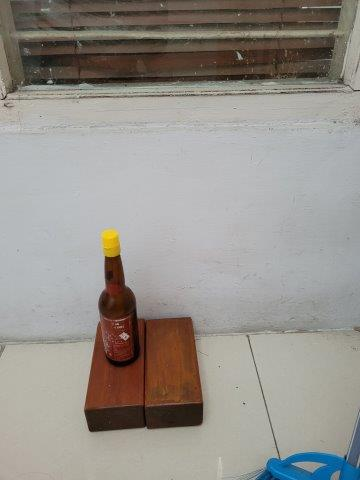botolkaca: (99, 230, 140, 365)
